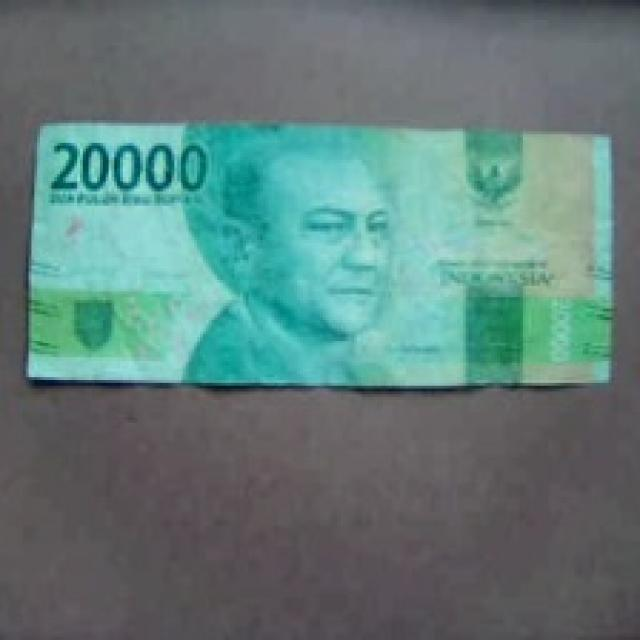dua puluh ribu rupiah: (23, 58, 640, 462)
